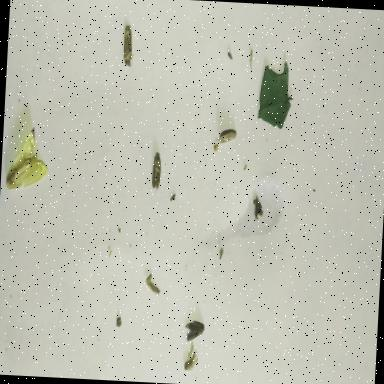pbw: (120, 24, 134, 68), (184, 318, 206, 343), (150, 152, 162, 192), (214, 125, 236, 146)
